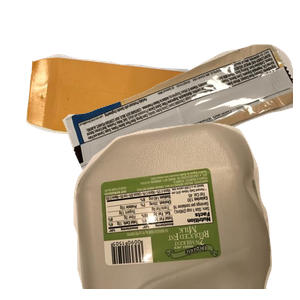glass: (102, 181, 246, 300)
paper: (23, 51, 206, 189)
plastic: (71, 120, 300, 300)
trash: (60, 42, 300, 219)
